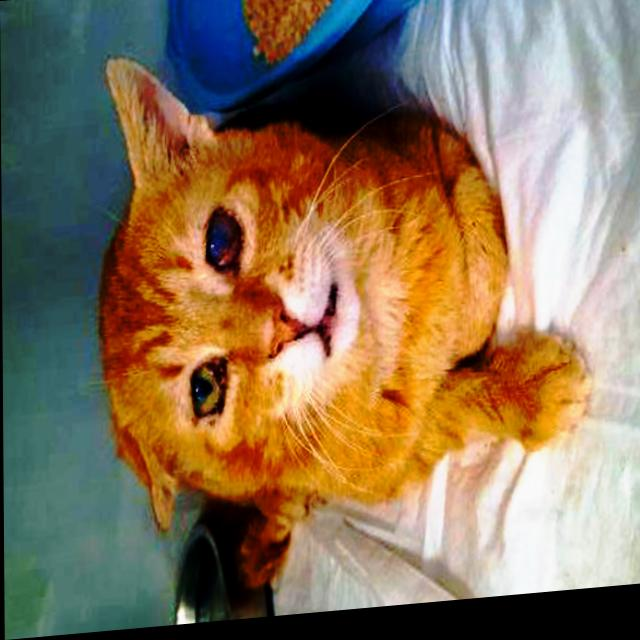eye_infection: (205, 203, 247, 290), (188, 349, 231, 430)
